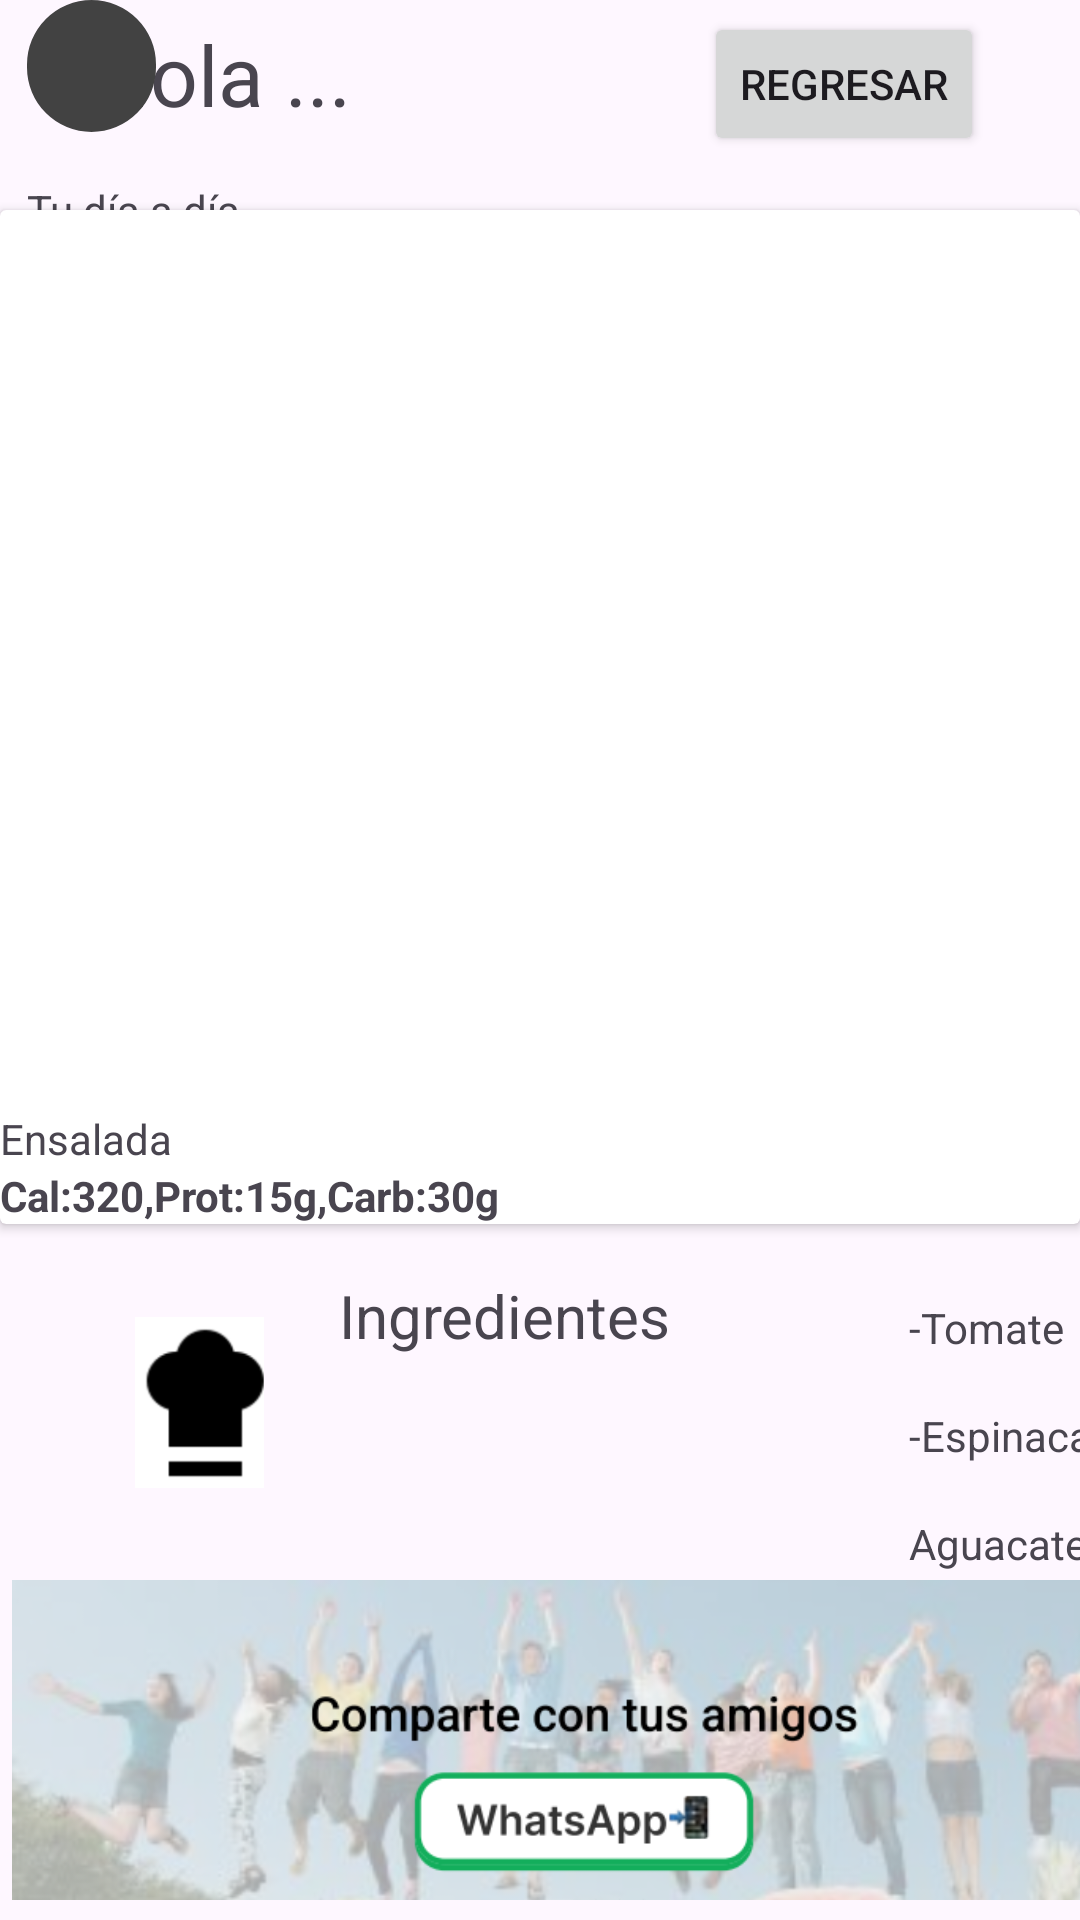

Screen size 1080w x 1920h. Icon name, then its center in pixels as (x,y):
gorro shef: (205,1403)
